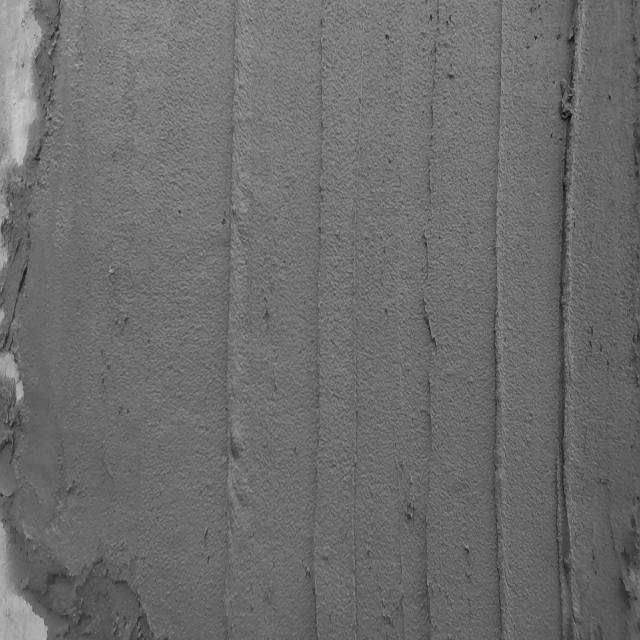trowels marks: (556, 2, 587, 637), (486, 10, 510, 640), (218, 4, 244, 576), (419, 59, 442, 626), (306, 56, 326, 637)
